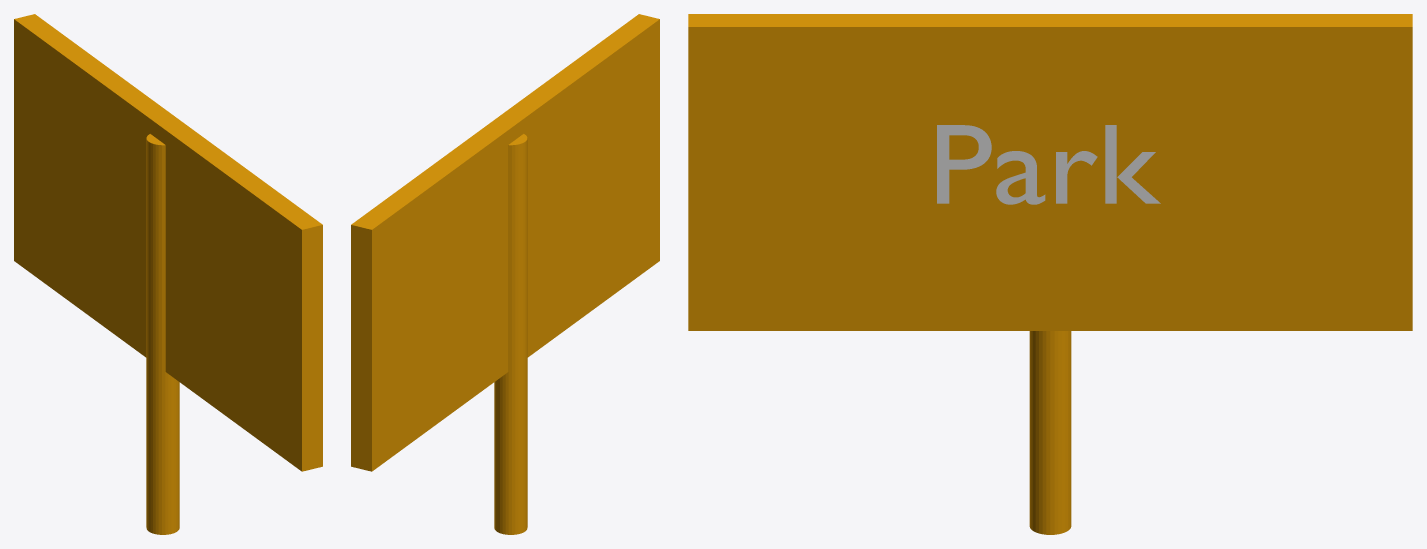
The model's file is Kyltti6.fbx.
The picture shows the model from 3 angles, left to right: view 1: azimuth 30°, elevation 25°; view 2: azimuth 150°, elevation 25°; view 3: azimuth 270°, elevation 25°; orthographic projection. The views are drawn at different scales.
Visible parts, largest first — view 1: Kyltti6, Cylinder.005; view 2: Kyltti6, Cylinder.005; view 3: Kyltti6, Cylinder.005, Text.007.
Boxes of the visible parts, x1,y1,x2,y2 form: Kyltti6: (14, 14, 322, 471); Cylinder.005: (146, 134, 179, 534); Kyltti6: (351, 14, 659, 471); Cylinder.005: (494, 134, 527, 534); Kyltti6: (688, 14, 1412, 330); Cylinder.005: (1029, 331, 1071, 534); Text.007: (937, 125, 1160, 204).
Size of the model in its own units: 36.68 by 442 by 570.
